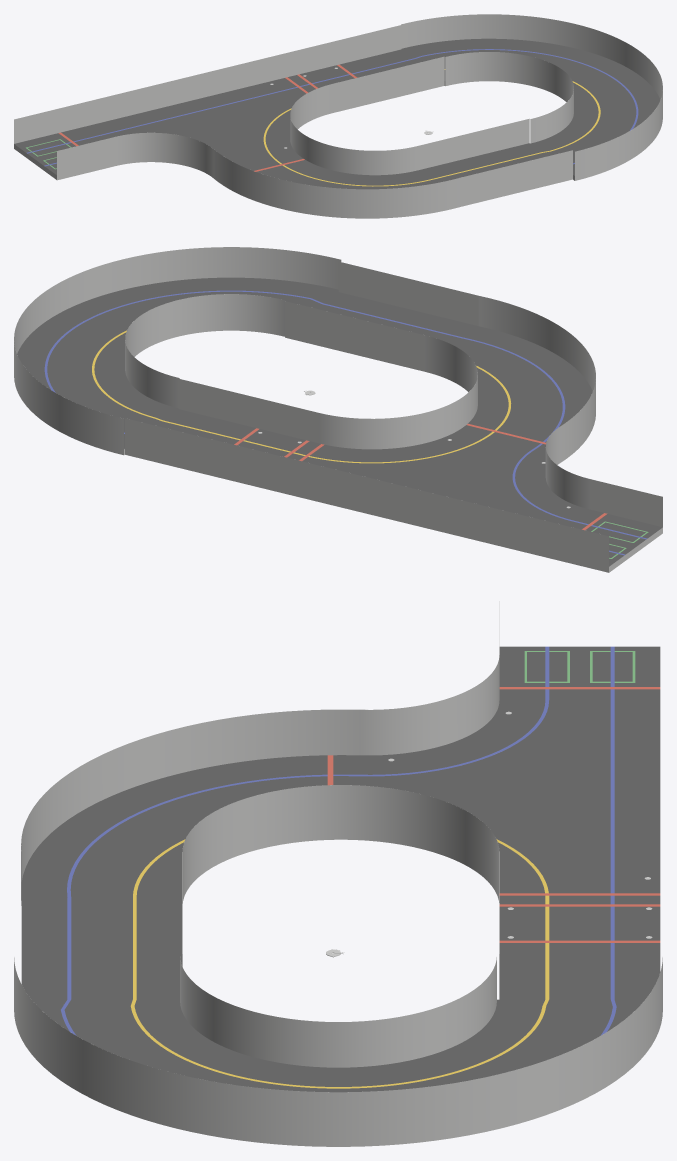
File: Medium_oval.dae
The picture shows the model from 3 angles, top to bottom: view 1: azimuth 30°, elevation 25°; view 2: azimuth 150°, elevation 25°; view 3: azimuth 270°, elevation 25°; orthographic projection. The views are drawn at different scales.
Visible parts, largest first — view 1: Medium Oval; view 2: Medium Oval; view 3: Medium Oval.
Part boxes in pixels (x1,y1,x2,y2): Medium Oval: (14, 14, 662, 218); Medium Oval: (14, 247, 662, 572); Medium Oval: (14, 601, 662, 1146).
Bounding box in the file's own units: 5.87 × 3.28 × 0.3048.
